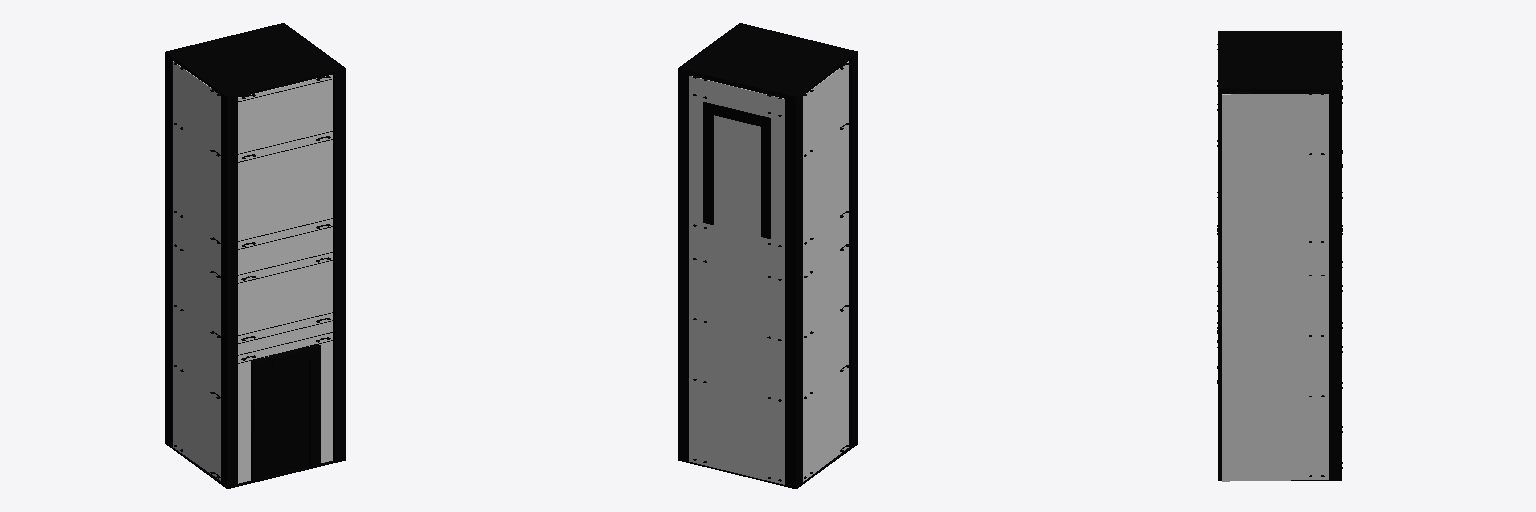
Rendered from cgaxis_models_107_05_obj.obj.
The picture shows the model from 3 angles: view 1: azimuth 30°, elevation 25°; view 2: azimuth 150°, elevation 25°; view 3: azimuth 270°, elevation 25°; orthographic projection.
Visible parts, largest first — view 1: cgaxis_models_107_05_01, cgaxis_models_107_05_02, cgaxis_models_107_05_03, cgaxis_models_107_05_05; view 2: cgaxis_models_107_05_01, cgaxis_models_107_05_02, cgaxis_models_107_05_05; view 3: cgaxis_models_107_05_01, cgaxis_models_107_05_02.
Part boxes in pixels (x1,y1,x2,y2): cgaxis_models_107_05_01: (173,61,332,483); cgaxis_models_107_05_02: (165,23,345,488); cgaxis_models_107_05_03: (263,359,308,477); cgaxis_models_107_05_05: (174,63,330,478); cgaxis_models_107_05_01: (689,61,848,484); cgaxis_models_107_05_02: (678,23,857,488); cgaxis_models_107_05_05: (693,63,849,481); cgaxis_models_107_05_01: (1222,94,1328,481); cgaxis_models_107_05_02: (1218,31,1341,480).
Size of the model in its own units: 85.58 by 267 by 77.55.